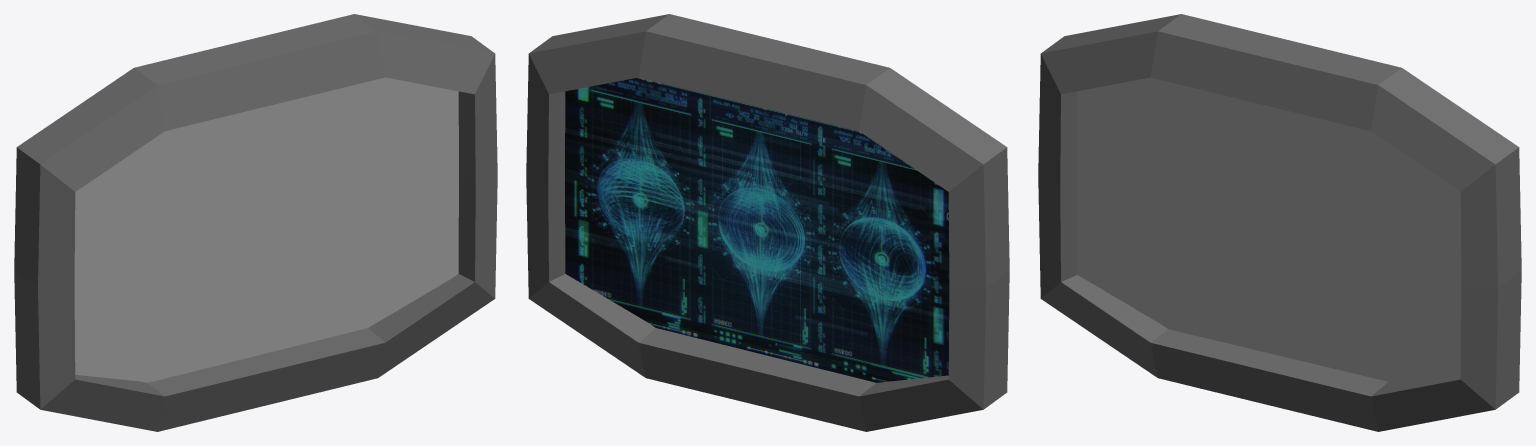
The model's file is Wall Moniter.fbx.
3 views of the same model, side by side, from view 1: azimuth 30°, elevation 25°; view 2: azimuth 150°, elevation 25°; view 3: azimuth 330°, elevation 25° (orthographic).
Visible parts, largest first — view 1: pCube1, pTorus3; view 2: pCube1, pTorus3; view 3: pCube1, pTorus3.
Part boxes in pixels (bbox=[...]): pCube1: bbox=[74, 77, 458, 382]; pTorus3: bbox=[14, 14, 497, 431]; pCube1: bbox=[565, 77, 949, 382]; pTorus3: bbox=[526, 14, 1009, 431]; pCube1: bbox=[1077, 77, 1461, 381]; pTorus3: bbox=[1038, 14, 1521, 431].
Size of the model in its own units: 6.59 by 4.75 by 0.9511.
3 materials, 1 textured.
